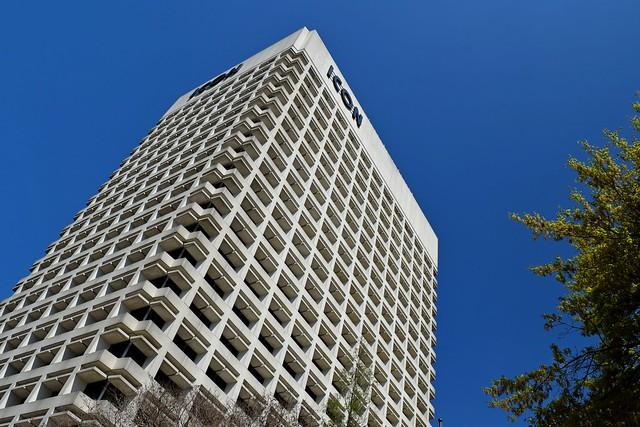building: (0, 28, 434, 424)
